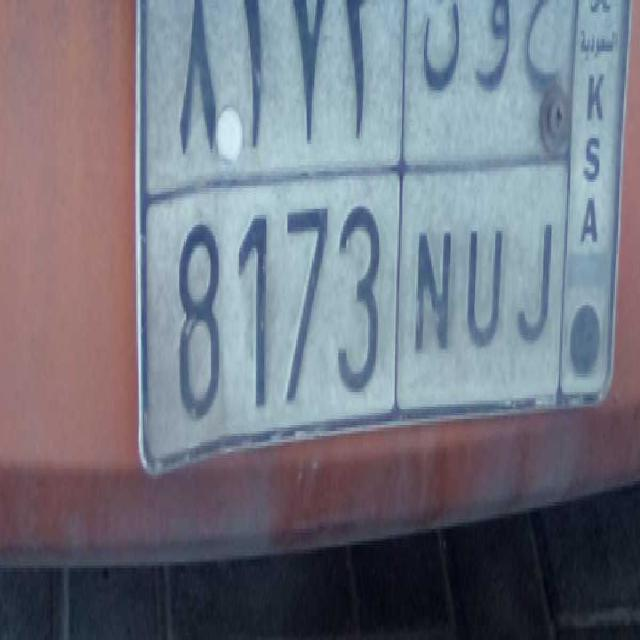license_plate: (142, 167, 564, 434)
